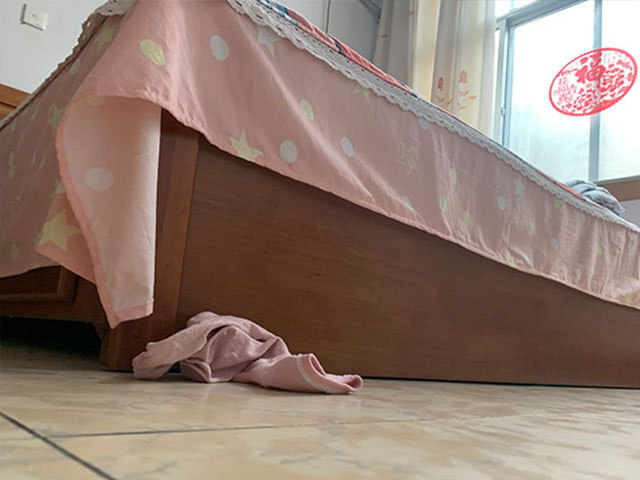bed: (1, 1, 640, 388)
socks: (133, 309, 364, 398)
